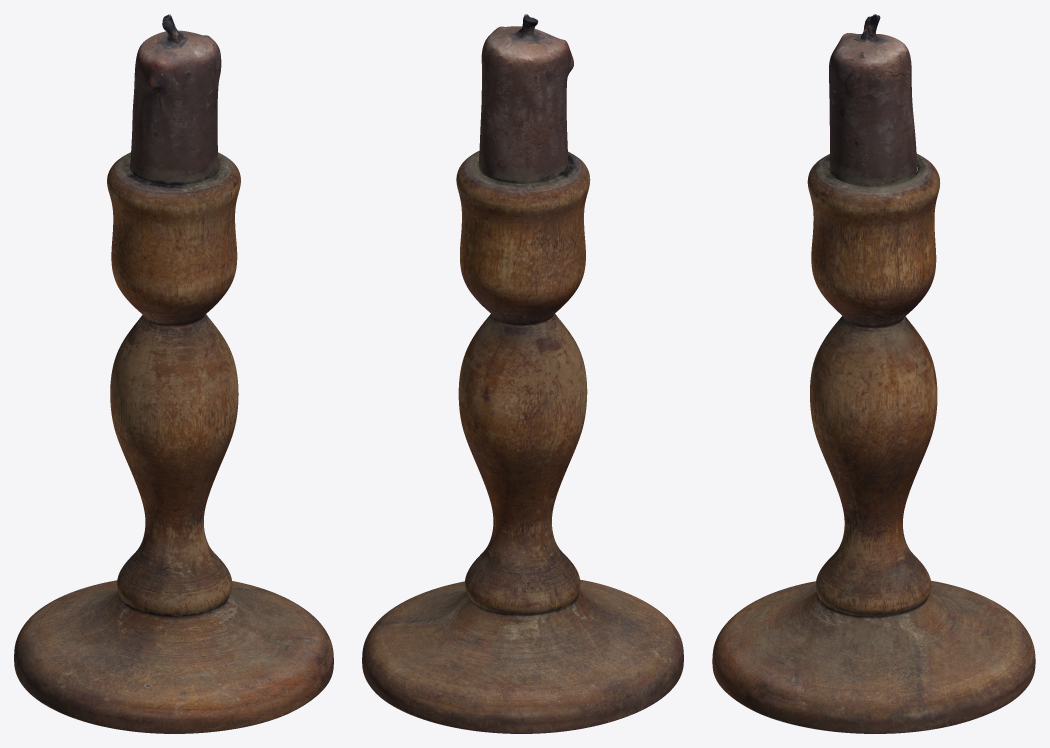
The model's file is wooden_candlestick_2k.gltf.
The picture shows the model from 3 angles, left to right: view 1: azimuth 30°, elevation 25°; view 2: azimuth 150°, elevation 25°; view 3: azimuth 270°, elevation 25°; orthographic projection.
Parts seen in each view (by area): view 1: wooden_candlestick; view 2: wooden_candlestick; view 3: wooden_candlestick.
Part boxes in pixels (<box>): wooden_candlestick: <box>14,14,333,733</box>; wooden_candlestick: <box>362,14,683,733</box>; wooden_candlestick: <box>712,14,1035,733</box>.
Bounding box in the file's own units: 0.0972 × 0.2197 × 0.0987.
1 material, 1 textured.
